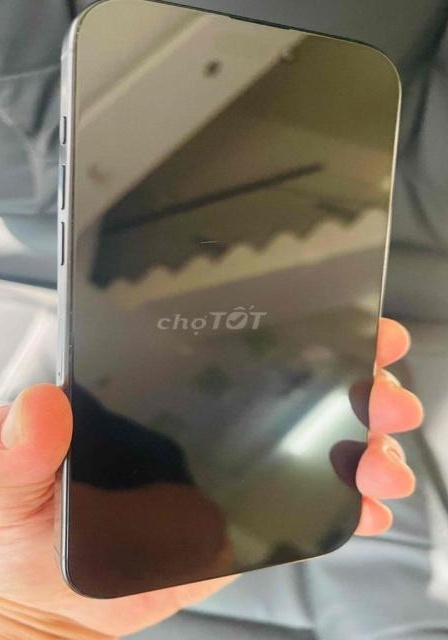scratch: (189, 218, 244, 272)
